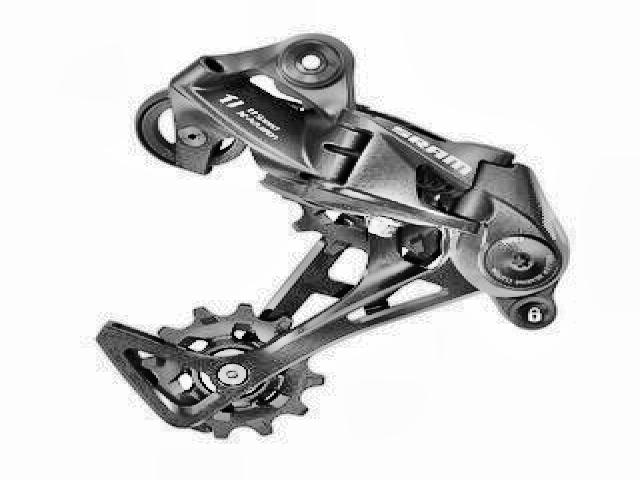rear_derailleur: (92, 33, 573, 445)
